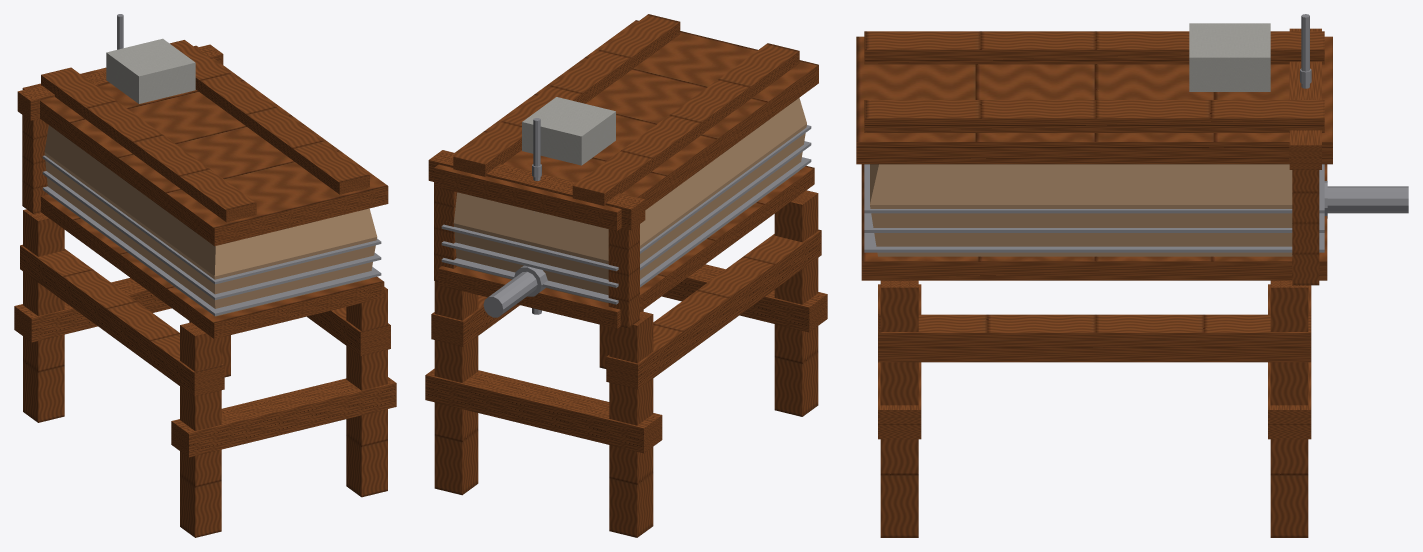
Rendered from great-double-bellows-on-a-frame-2-2-m.glb.
3 renders of one model, left to right at view 1: azimuth 30°, elevation 25°; view 2: azimuth 150°, elevation 25°; view 3: azimuth 270°, elevation 25°, orthographic. The views are drawn at different scales.
Visible parts, largest first — view 1: blacksmith-forge-and-armoury-double-bellows, bellows-top/timber, bellows-top/leather, bellows-top/stone; view 2: blacksmith-forge-and-armoury-double-bellows, bellows-top/timber, bellows-top/leather, bellows-top/stone; view 3: blacksmith-forge-and-armoury-double-bellows, bellows-top/timber, bellows-top/leather, bellows-top/stone.
Boxes of the visible parts, x1,y1,x2,y2 form: blacksmith-forge-and-armoury-double-bellows: (14,44,396,537); bellows-top/timber: (22,40,388,246); bellows-top/leather: (44,125,377,276); bellows-top/stone: (106,38,195,103); blacksmith-forge-and-armoury-double-bellows: (425,124,827,537); bellows-top/timber: (434,14,818,230); bellows-top/leather: (454,97,806,260); bellows-top/stone: (522,97,615,165); blacksmith-forge-and-armoury-double-bellows: (861,28,1408,537); bellows-top/timber: (856,31,1332,164); bellows-top/leather: (870,164,1292,204); bellows-top/stone: (1189,23,1270,91).
Size of the model in its own units: 1.1 by 1.89 by 2.04.
4 materials, 2 textured.
